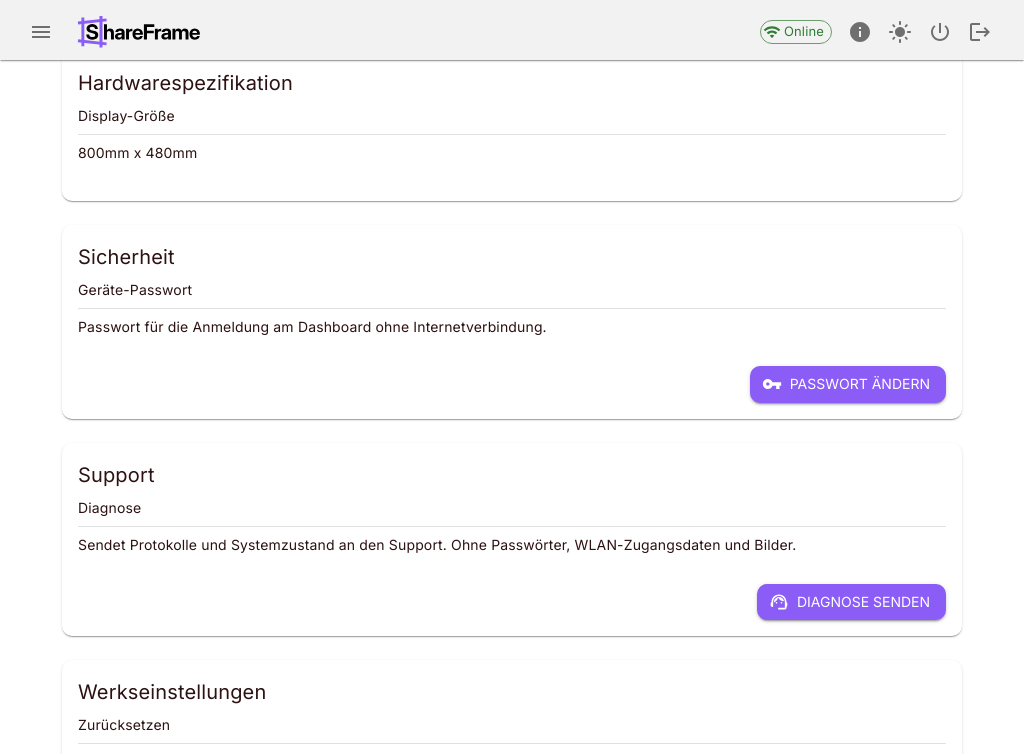
Test: device password › needs a matching confirmation
(page scrolled)
Click the button "Passwort ändern": (848, 384) [750,366,946,403]
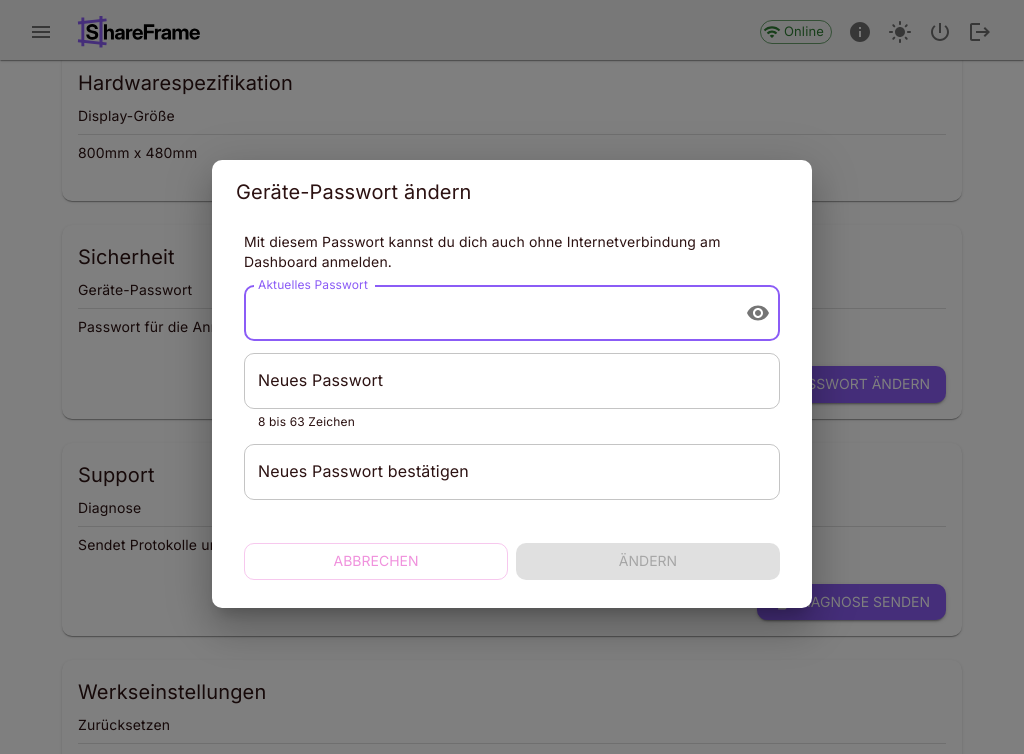
In the password field labelled "Aktuelles Passwort": (487, 313) [244,285,730,341], type "oldpassword"
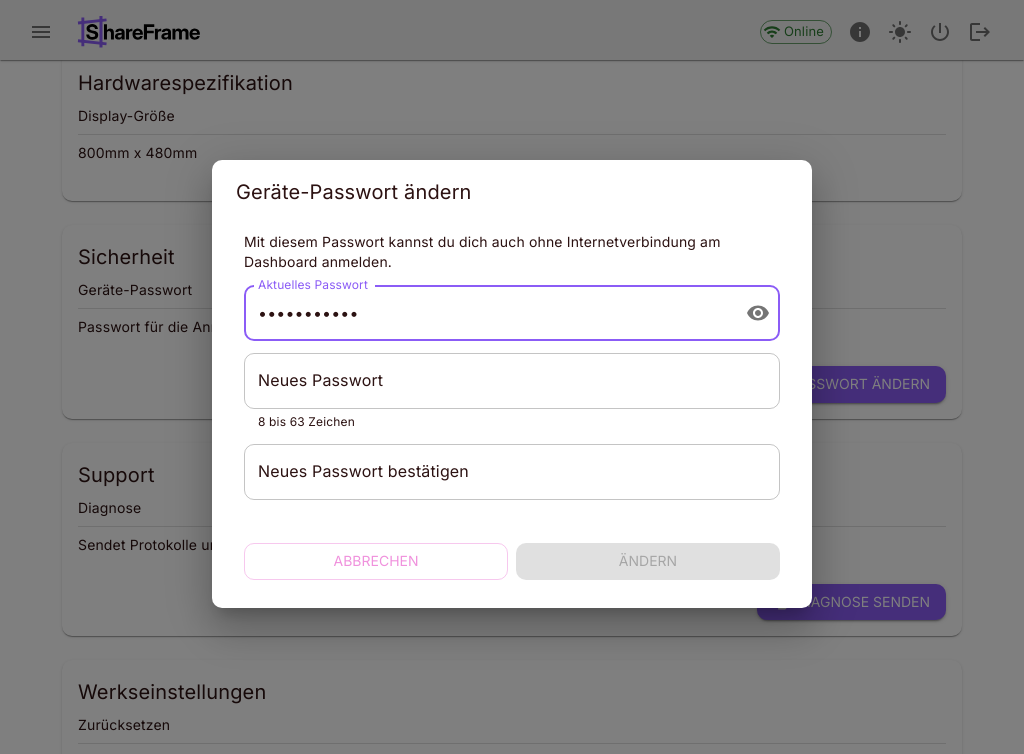
In the password field labelled "Neues Passwort": (512, 381) [244,353,780,409], type "newpassword"
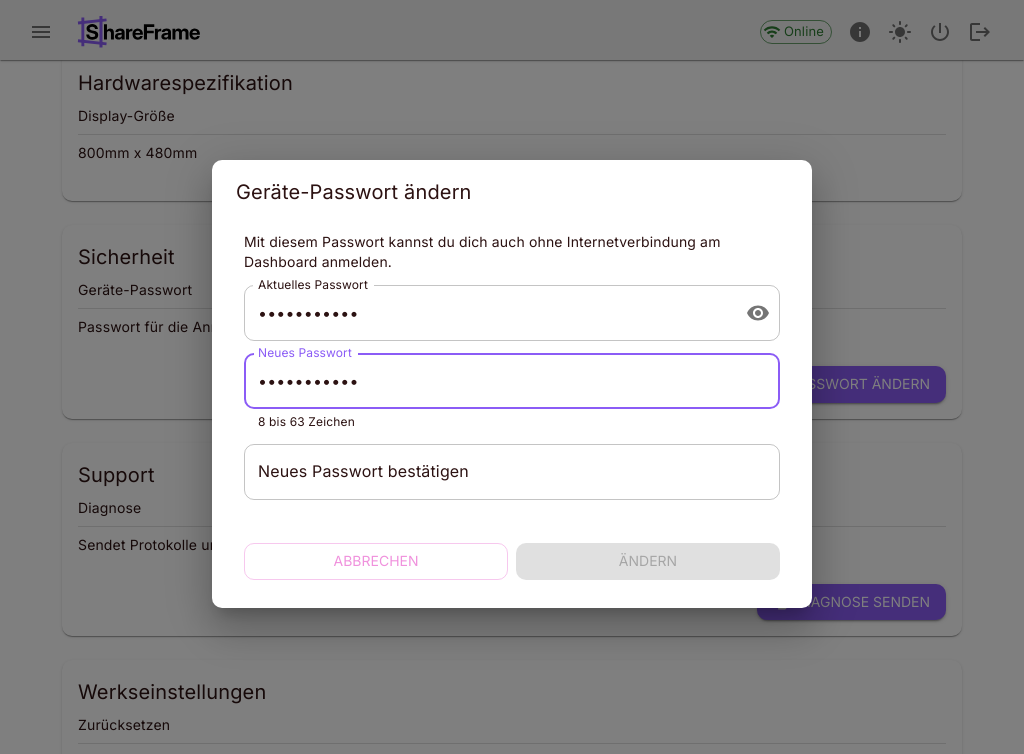
In the password field labelled "Neues Passwort bestätigen": (512, 472) [244,444,780,500], type "otherpassword"
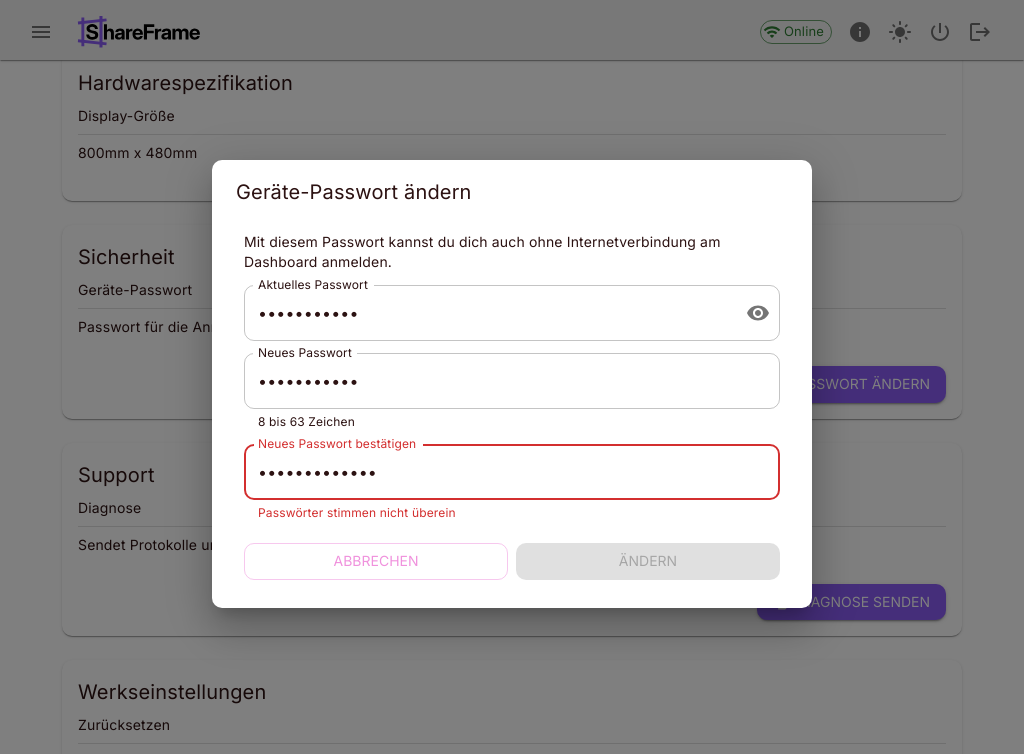
Result: the button "Ändern" is disabled at [516,543,780,580]
Result: the text "Passwörter stimmen nicht überein" is shown at [258,505,456,520]
